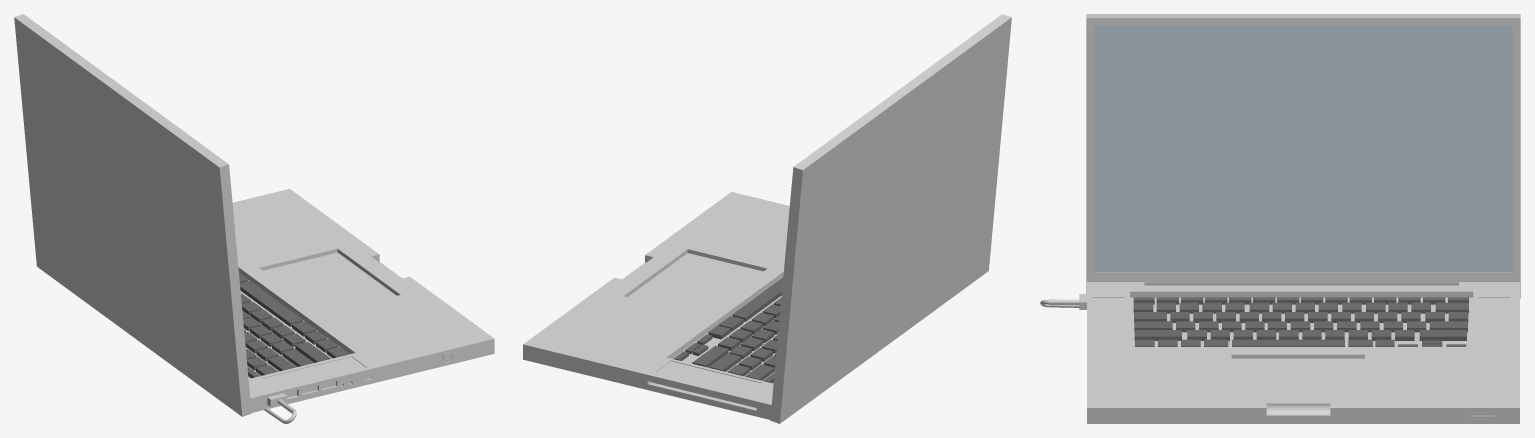
File: macbook.fbx
The picture shows the model from 3 angles, left to right: view 1: azimuth 30°, elevation 25°; view 2: azimuth 150°, elevation 25°; view 3: azimuth 270°, elevation 25°; orthographic projection. The views are drawn at different scales.
Visible parts, largest first — view 1: polySurface20; view 2: polySurface20; view 3: polySurface20.
Part boxes in pixels (x1,y1,x2,y2): polySurface20: (14,14,494,423); polySurface20: (523,14,1011,423); polySurface20: (1040,14,1520,423).
Bounding box in the file's own units: 10.25 × 9.11 × 14.64.
